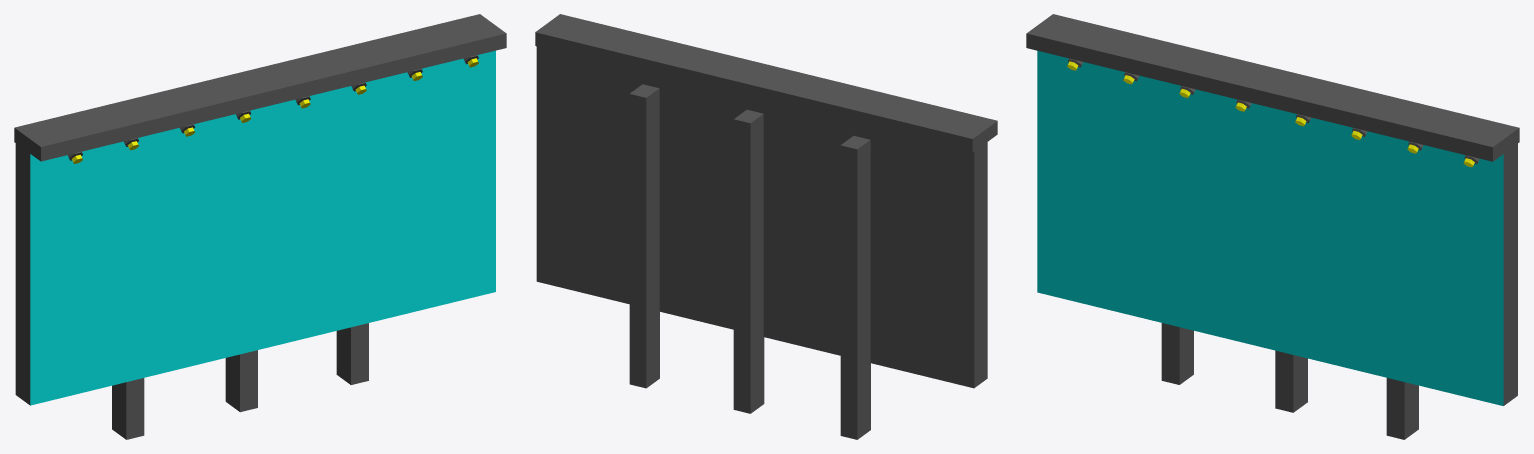
Rendered from BigBilboard.fbx.
3 views of the same model, side by side, from view 1: azimuth 30°, elevation 25°; view 2: azimuth 150°, elevation 25°; view 3: azimuth 330°, elevation 25° (orthographic). The views are drawn at different scales.
Visible parts, largest first — view 1: BigBilboard; view 2: BigBilboard; view 3: BigBilboard.
Boxes of the visible parts, <box> form: BigBilboard: <box>14,14,506,439</box>; BigBilboard: <box>535,14,997,439</box>; BigBilboard: <box>1026,14,1519,439</box>.
Bounding box in the file's own units: 58 × 40.21 × 8.45.
